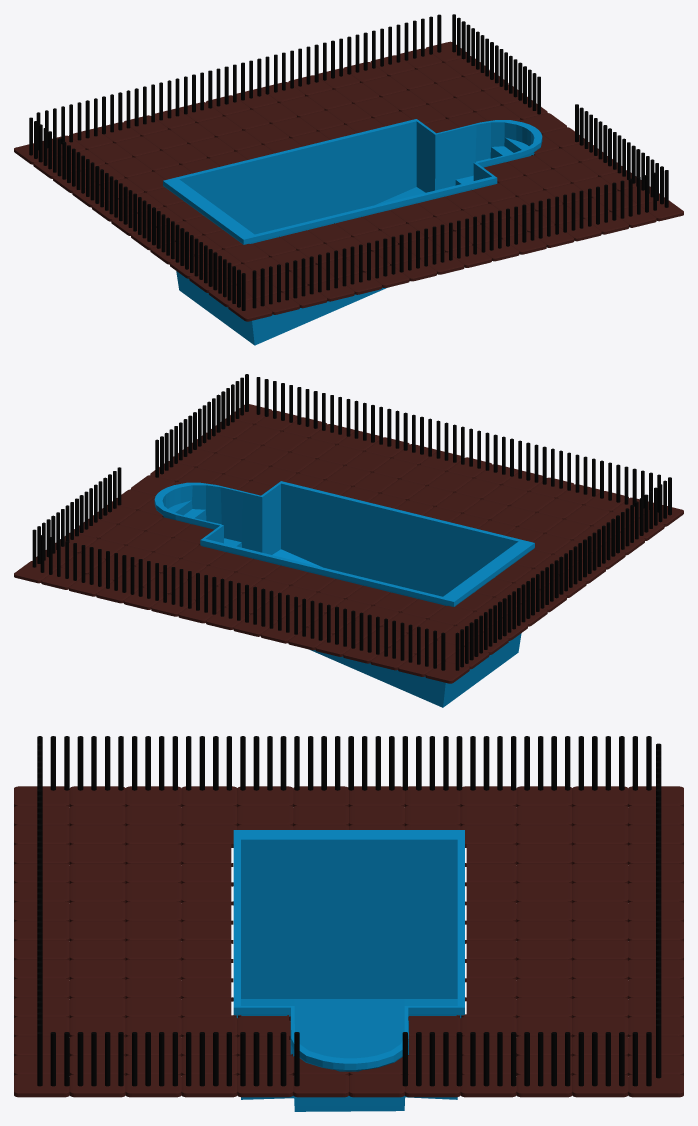
Rendered from pool.obj.
The picture shows the model from 3 angles, top to bottom: view 1: azimuth 30°, elevation 25°; view 2: azimuth 150°, elevation 25°; view 3: azimuth 270°, elevation 25°; orthographic projection. The views are drawn at different scales.
Parts seen in each view (by area): view 1: Cube; view 2: Cube; view 3: Cube.
Boxes of the visible parts, box(x1,y1,x2,y2) form: Cube: box(14, 14, 683, 345); Cube: box(14, 374, 683, 707); Cube: box(14, 736, 683, 1111).
Bounding box in the file's own units: 32.93 × 10.25 × 30.37.
